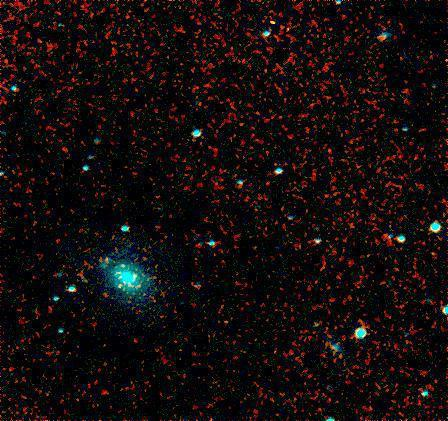star: (107, 270, 137, 300)
